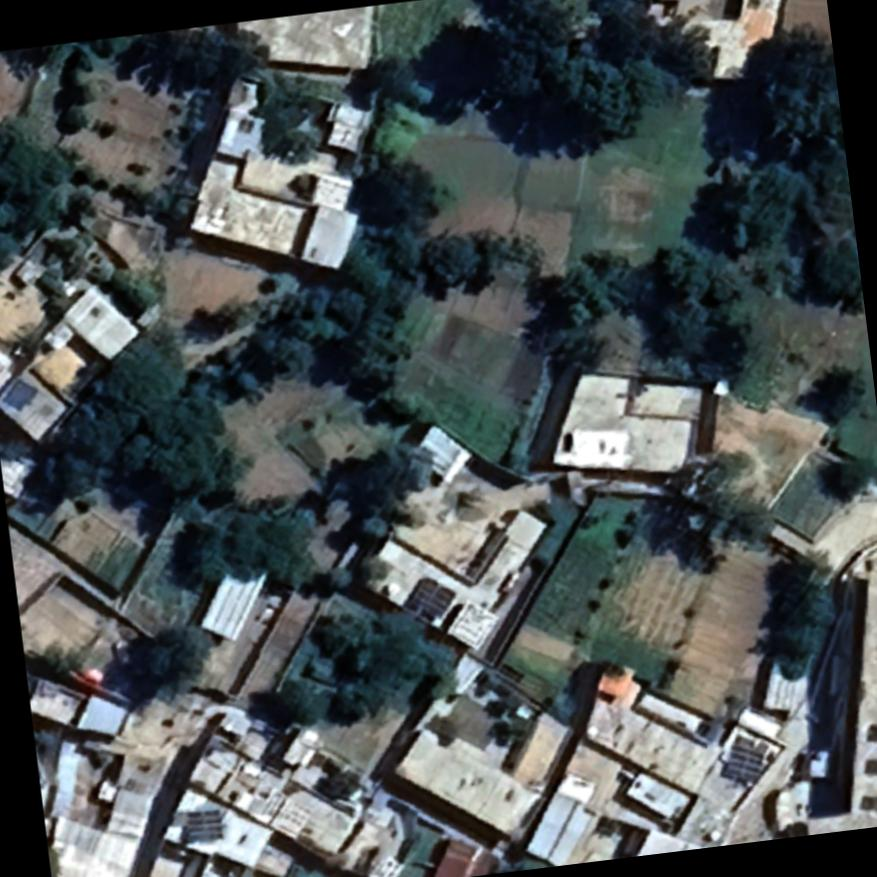Solarpanel: (401, 575, 456, 624), (722, 738, 769, 786), (181, 809, 224, 846), (859, 789, 877, 816), (862, 753, 877, 783), (865, 720, 877, 750)
